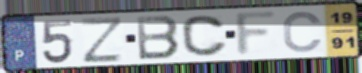5: (40, 19, 75, 64)
B: (134, 14, 182, 62)
C: (180, 14, 230, 58), (282, 10, 326, 54)
F: (234, 9, 281, 58)
Z: (79, 15, 125, 65)
